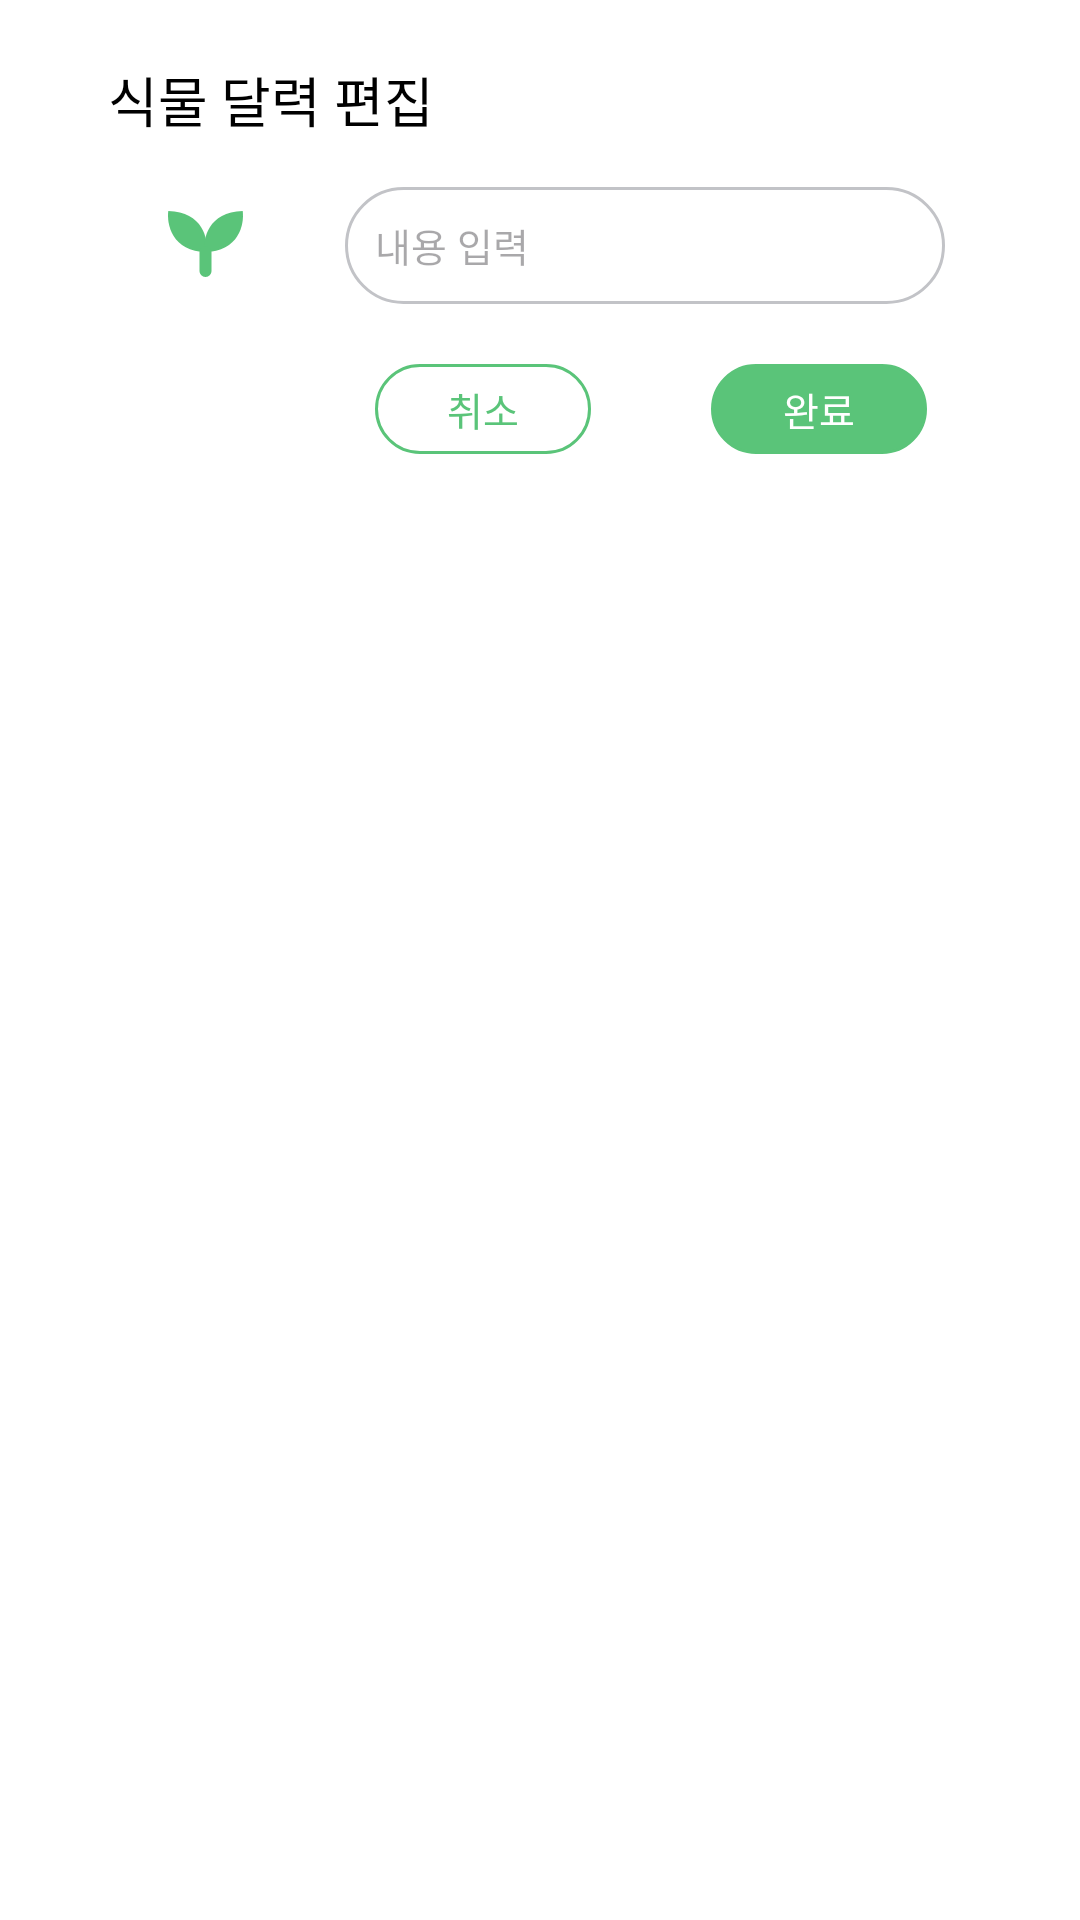

Where icons sit on this 1080px×1920px app screen, as [x1,y1,x2,y2]:
todoplant: [168,211,243,277]
